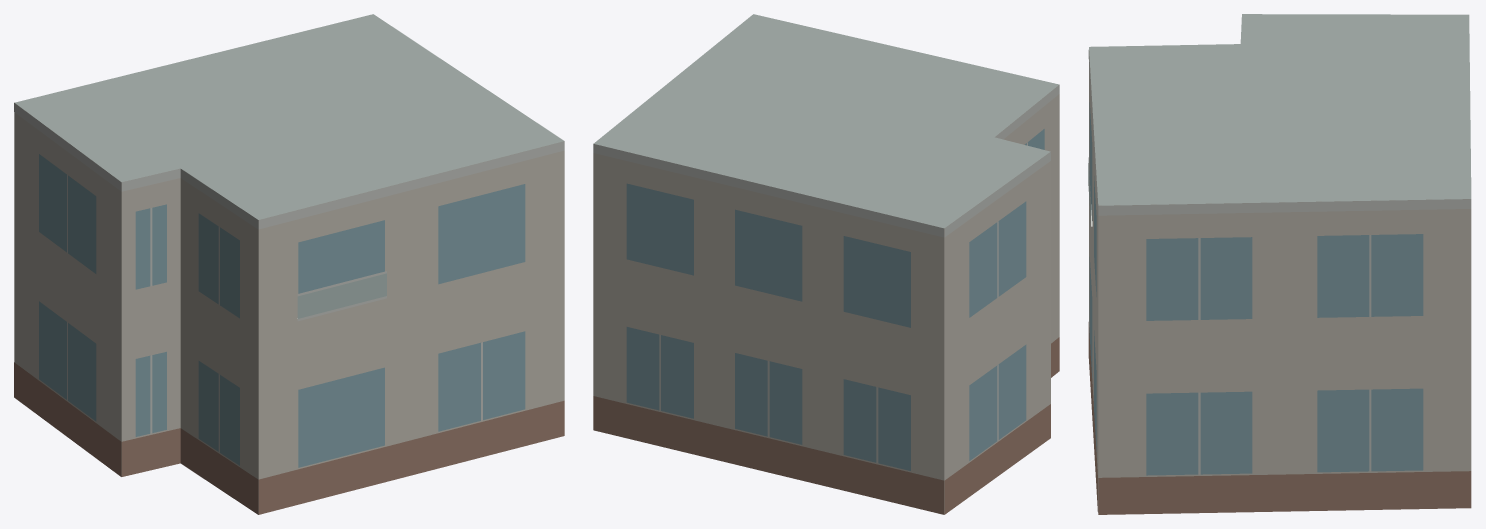
File: survey-upis-32979227.glb
3 views of the same model, side by side, from view 1: azimuth 30°, elevation 25°; view 2: azimuth 150°, elevation 25°; view 3: azimuth 270°, elevation 25° (orthographic). The views are drawn at different scales.
Parts seen in each view (by area): view 1: survey-upis-32979227.tmp; view 2: survey-upis-32979227.tmp; view 3: survey-upis-32979227.tmp.
Part boxes in pixels (<box>): survey-upis-32979227.tmp: <box>14,14,564,514</box>; survey-upis-32979227.tmp: <box>593,14,1059,514</box>; survey-upis-32979227.tmp: <box>1088,14,1471,514</box>.
Size of the model in its own units: 10.12 by 7.6 by 8.54.
